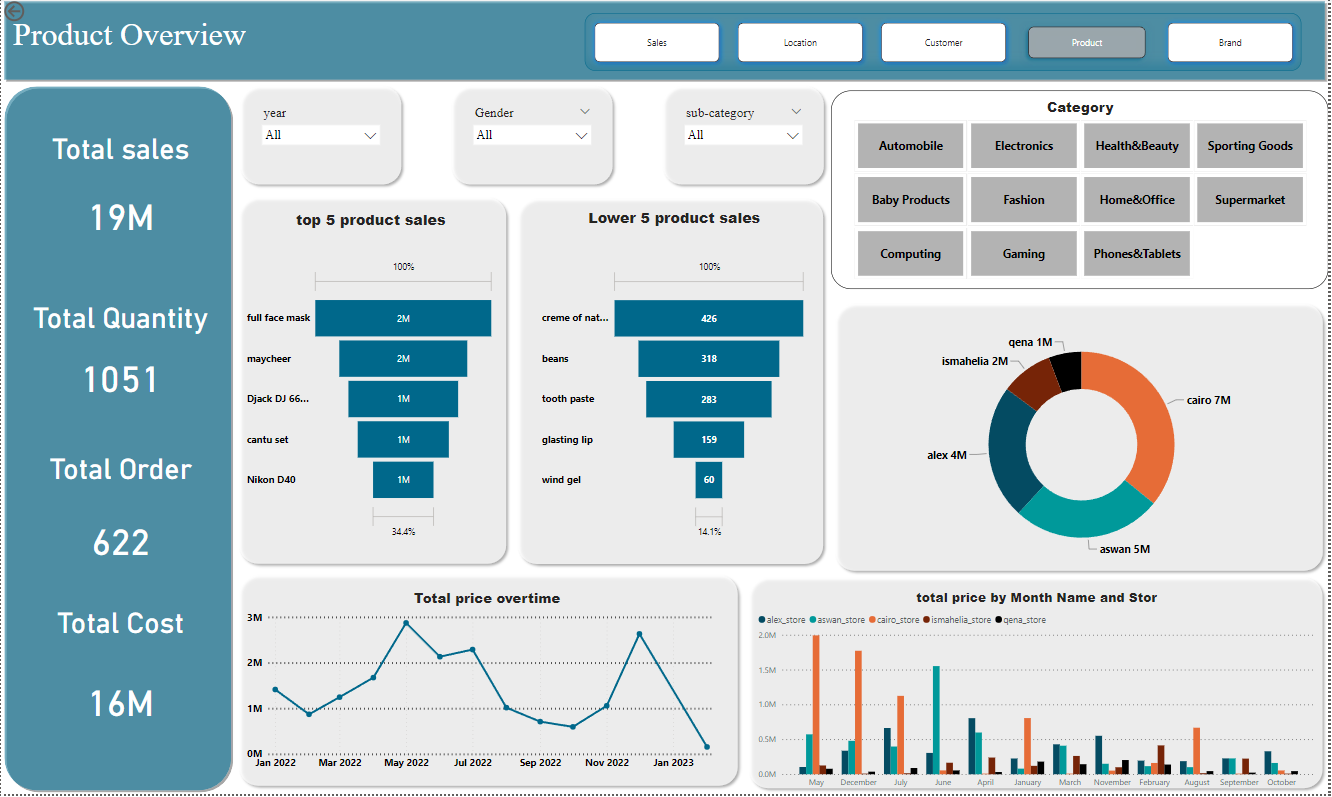

This screenshot's page, from the dashboard's own definition file:
{"tool":"powerbi","page":{"name":"Product","canvas":[2000,1200],"ordinal":3},"visuals":[{"type":"shape","box":[0,0,2000,128.4],"z":0},{"type":"shape","box":[0,128.6,351.8,1071.4],"z":1000},{"type":"pageNavigator","box":[880.4,23.2,1080.4,87.5],"z":2000},{"type":"card","fields":{"Values":["Sum(FOrder.total_price)"]},"box":[29.8,275,300,96.4],"z":3000},{"type":"card","fields":{"Values":["Sum(FOrder.Quantity)"]},"box":[29.8,519.6,300,96.4],"z":4000},{"type":"card","fields":{"Values":["Sum(FOrder.sub_total)"]},"box":[30.1,1007.8,299.5,96.1],"z":5000},{"type":"card","fields":{"Values":["CountNonNull(FOrder.Order ID)"]},"box":[29.8,764.3,300,96.4],"z":6000},{"type":"textbox","box":[29.8,198.2,300,67.9],"z":7000},{"type":"textbox","box":[29.8,451.8,300,67.9],"z":8000},{"type":"textbox","box":[29.8,680.4,300,67.9],"z":9000},{"type":"textbox","box":[29.8,912.5,300,80.4],"z":10000},{"type":"textbox","box":[121.4,23.2,457.1,87.5],"z":11000},{"type":"slicer","title":"Category","fields":{"Values":["Dimproduct.category"]},"box":[1250.9,139.4,749.8,299.5],"z":12000},{"type":"shape","box":[989,124.3,260,165.8],"z":13000},{"type":"shape","box":[670.6,124.3,260,165.8],"z":14000},{"type":"shape","box":[352.3,124.3,260,165.8],"z":15000},{"type":"slicer","fields":{"Values":["DimDate.year"]},"box":[382.4,156.4,199.7,99.8],"z":16000},{"type":"slicer","fields":{"Values":["Dimcastomers.Gender"]},"box":[700.8,156.4,199.7,99.8],"z":17000},{"type":"slicer","fields":{"Values":["Dimproduct.sub-category"]},"box":[1019.2,156.4,199.7,99.8],"z":18000},{"type":"shape","box":[350.4,860.9,768.6,335.3],"z":19000},{"type":"lineChart","title":"Total price overtime ","fields":{"Y":["Sum(FOrder.total_price)"],"Category":["DimDate.orderDate.Variation.Date Hierarchy.Year","DimDate.orderDate.Variation.Date Hierarchy.Quarter","DimDate.orderDate.Variation.Date Hierarchy.Month"]},"box":[365.5,889.2,734.7,284.5],"z":20000},{"type":"shape","box":[771.2,293.5,477.7,567.7],"z":21000},{"type":"funnel","title":"Lower 5 product sales","fields":{"Category":["Dimproduct.productName"],"Y":["Sum(FOrder.total_price)"]},"box":[809.8,317.1,409.2,544.1],"z":22000},{"type":"shape","box":[351.3,291.3,419.9,569.8],"z":23000},{"type":"actionButton","box":[0,0,100,40],"z":24000},{"type":"funnel","title":"top 5 product sales","fields":{"Category":["Dimproduct.productName"],"Y":["Sum(FOrder.total_price)"]},"box":[366.3,319.2,383.5,542],"z":25000},{"type":"shape","box":[1119,864.7,881.6,335.3],"z":26000},{"type":"clusteredColumnChart","title":"total price by Month Name and Stor","fields":{"Y":["Sum(FOrder.total_price)"],"Category":["DimDate.Month Name"],"Series":["DimStor.StorName"]},"box":[1135.9,889.2,849.6,310.8],"z":27000},{"type":"shape","box":[1249,452.1,751.6,420.1],"z":28000},{"type":"donutChart","fields":{"Category":["DimStor.Rejion"],"Y":["Sum(FOrder.total_price)"]},"box":[1271.6,486,714,374.9],"z":29000},{"type":"image","box":[10,10,142,84],"z":29001}]}

Visuals, with their boxes in screenshot pixels (x1, y1, x2, y2), scaled from the page's 2000x1200 canvas onto the 1332x797 screenshot:
shape: [x1=0, y1=0, x2=1331, y2=85]
shape: [x1=0, y1=85, x2=234, y2=796]
pageNavigator: [x1=586, y1=15, x2=1306, y2=74]
card - Sum(FOrder.total_price): [x1=20, y1=183, x2=220, y2=247]
card - Sum(FOrder.Quantity): [x1=20, y1=345, x2=220, y2=409]
card - Sum(FOrder.sub_total): [x1=20, y1=669, x2=220, y2=733]
card - CountNonNull(FOrder.Order ID): [x1=20, y1=508, x2=220, y2=572]
textbox: [x1=20, y1=132, x2=220, y2=177]
textbox: [x1=20, y1=300, x2=220, y2=345]
textbox: [x1=20, y1=452, x2=220, y2=497]
textbox: [x1=20, y1=606, x2=220, y2=659]
textbox: [x1=81, y1=15, x2=385, y2=74]
"Category" slicer: [x1=833, y1=93, x2=1331, y2=292]
shape: [x1=659, y1=83, x2=832, y2=193]
shape: [x1=447, y1=83, x2=620, y2=193]
shape: [x1=235, y1=83, x2=408, y2=193]
slicer - DimDate.year: [x1=255, y1=104, x2=388, y2=170]
slicer - Dimcastomers.Gender: [x1=467, y1=104, x2=600, y2=170]
slicer - Dimproduct.sub-category: [x1=679, y1=104, x2=812, y2=170]
shape: [x1=233, y1=572, x2=745, y2=794]
"Total price overtime " lineChart: [x1=243, y1=591, x2=733, y2=780]
shape: [x1=514, y1=195, x2=832, y2=572]
"Lower 5 product sales" funnel: [x1=539, y1=211, x2=812, y2=572]
shape: [x1=234, y1=193, x2=514, y2=572]
actionButton: [x1=0, y1=0, x2=67, y2=27]
"top 5 product sales" funnel: [x1=244, y1=212, x2=499, y2=572]
shape: [x1=745, y1=574, x2=1331, y2=796]
"total price by Month Name and Stor" clusteredColumnChart: [x1=757, y1=591, x2=1322, y2=796]
shape: [x1=832, y1=300, x2=1331, y2=579]
donutChart - DimStor.Rejion x Sum(FOrder.total_price): [x1=847, y1=323, x2=1322, y2=572]
image: [x1=7, y1=7, x2=101, y2=62]
